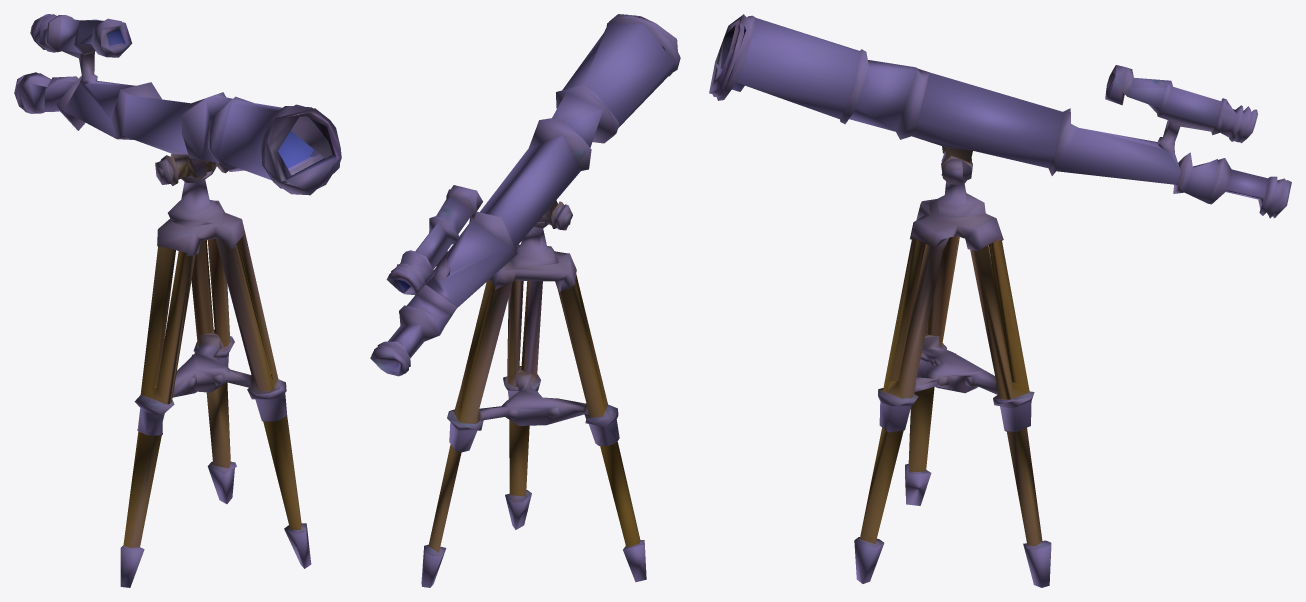
File: model.progressive.glb
3 views of the same model, side by side, from view 1: azimuth 30°, elevation 25°; view 2: azimuth 150°, elevation 25°; view 3: azimuth 270°, elevation 25° (orthographic). The views are drawn at different scales.
Parts seen in each view (by area): view 1: material; view 2: material; view 3: material.
Part boxes in pixels (left/top/right/bottom): material: left=14, top=14, right=341, bottom=587; material: left=370, top=14, right=680, bottom=587; material: left=709, top=14, right=1291, bottom=587.
Bounding box in the file's own units: 0.6697 × 1.89 × 1.89.
Materials: 1 (1 with a texture image).
